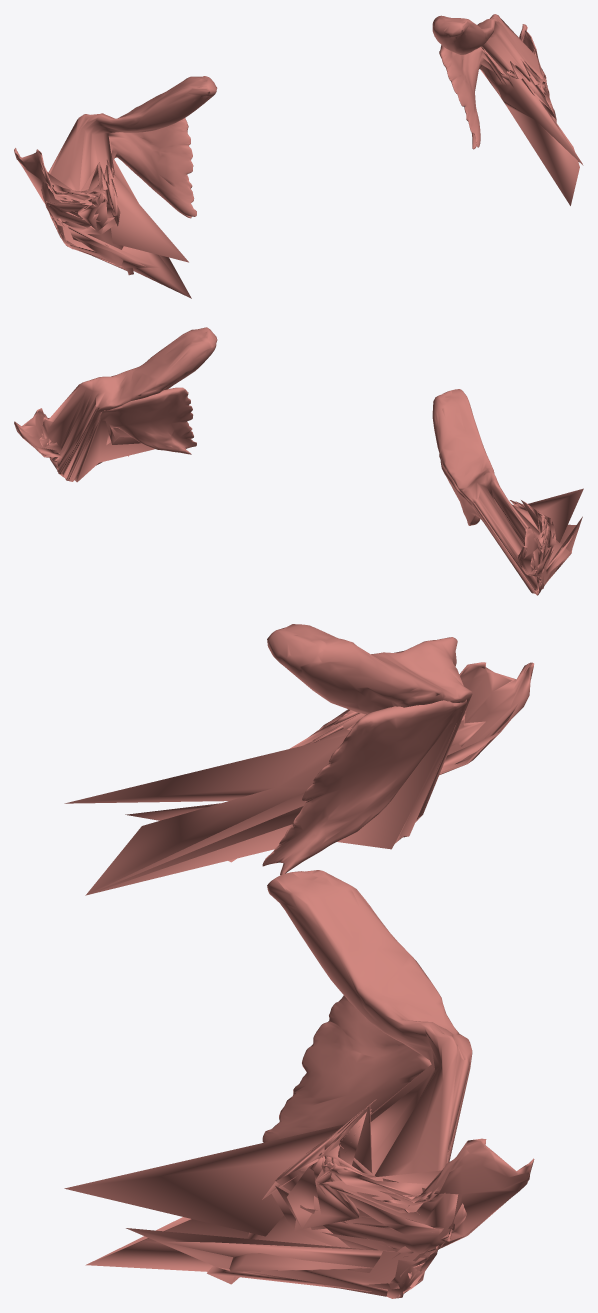
Rendered from lateral_pterygoid_lod1.glb.
3 views of the same model, one above another, from view 1: azimuth 30°, elevation 25°; view 2: azimuth 150°, elevation 25°; view 3: azimuth 270°, elevation 25° (orthographic). The views are drawn at different scales.
Parts seen in each view (by area): view 1: lateral_pterygoid_R_lod1, lateral_pterygoid_L_lod1; view 2: lateral_pterygoid_L_lod1, lateral_pterygoid_R_lod1; view 3: lateral_pterygoid_L_lod1, lateral_pterygoid_R_lod1.
Part boxes in pixels (<box>): lateral_pterygoid_R_lod1: <box>14,76,217,298</box>; lateral_pterygoid_L_lod1: <box>432,14,583,205</box>; lateral_pterygoid_L_lod1: <box>14,327,217,482</box>; lateral_pterygoid_R_lod1: <box>432,389,583,595</box>; lateral_pterygoid_L_lod1: <box>64,870,534,1298</box>; lateral_pterygoid_R_lod1: <box>64,624,533,895</box>.
Size of the model in its own units: 0.109 by 0.0332 by 0.0433.
